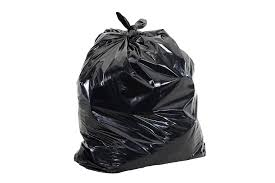Trash: (55, 5, 217, 175)
